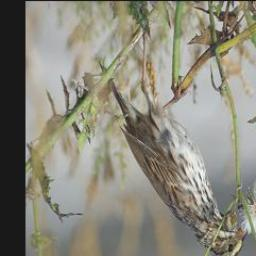Sparrow: (98, 61, 250, 256)
